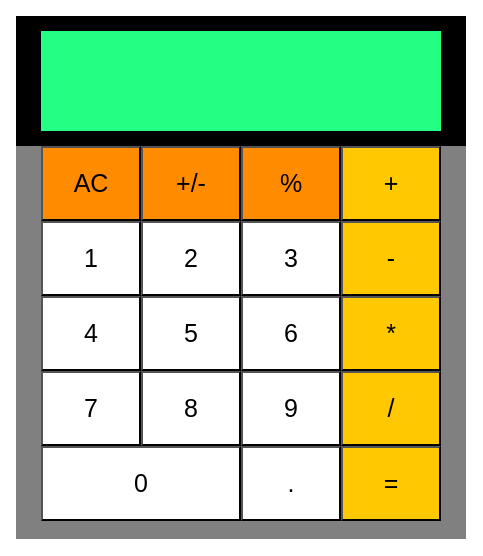
Testing component Button and screen › Testing Negative Button
Click the button with test id "Seven".
click(91, 408)  # box [41,371,141,446]
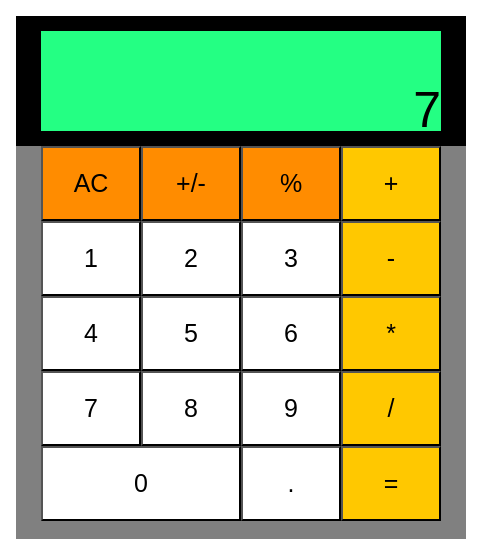
Click the button with test id "Negative".
click(191, 184)  # box [141,146,241,221]
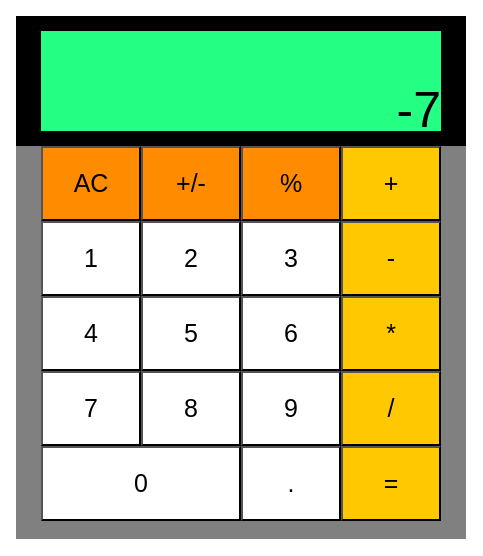
Now the text with test id "PantallaN" reads "-7", box [396,82,441,138]
